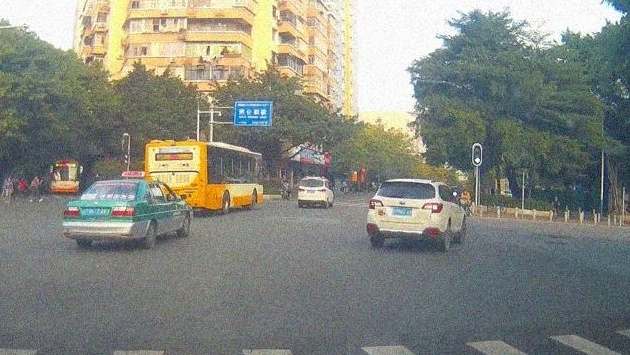L_light: (64, 206, 80, 217), (368, 199, 384, 209), (298, 188, 305, 191)
R_light: (111, 205, 136, 217), (422, 202, 444, 213), (317, 188, 326, 192)
T_light: (110, 182, 121, 185), (402, 182, 414, 184), (309, 179, 315, 181)
day-no: (61, 178, 143, 247), (297, 177, 328, 208)
day-right: (366, 178, 445, 250)
